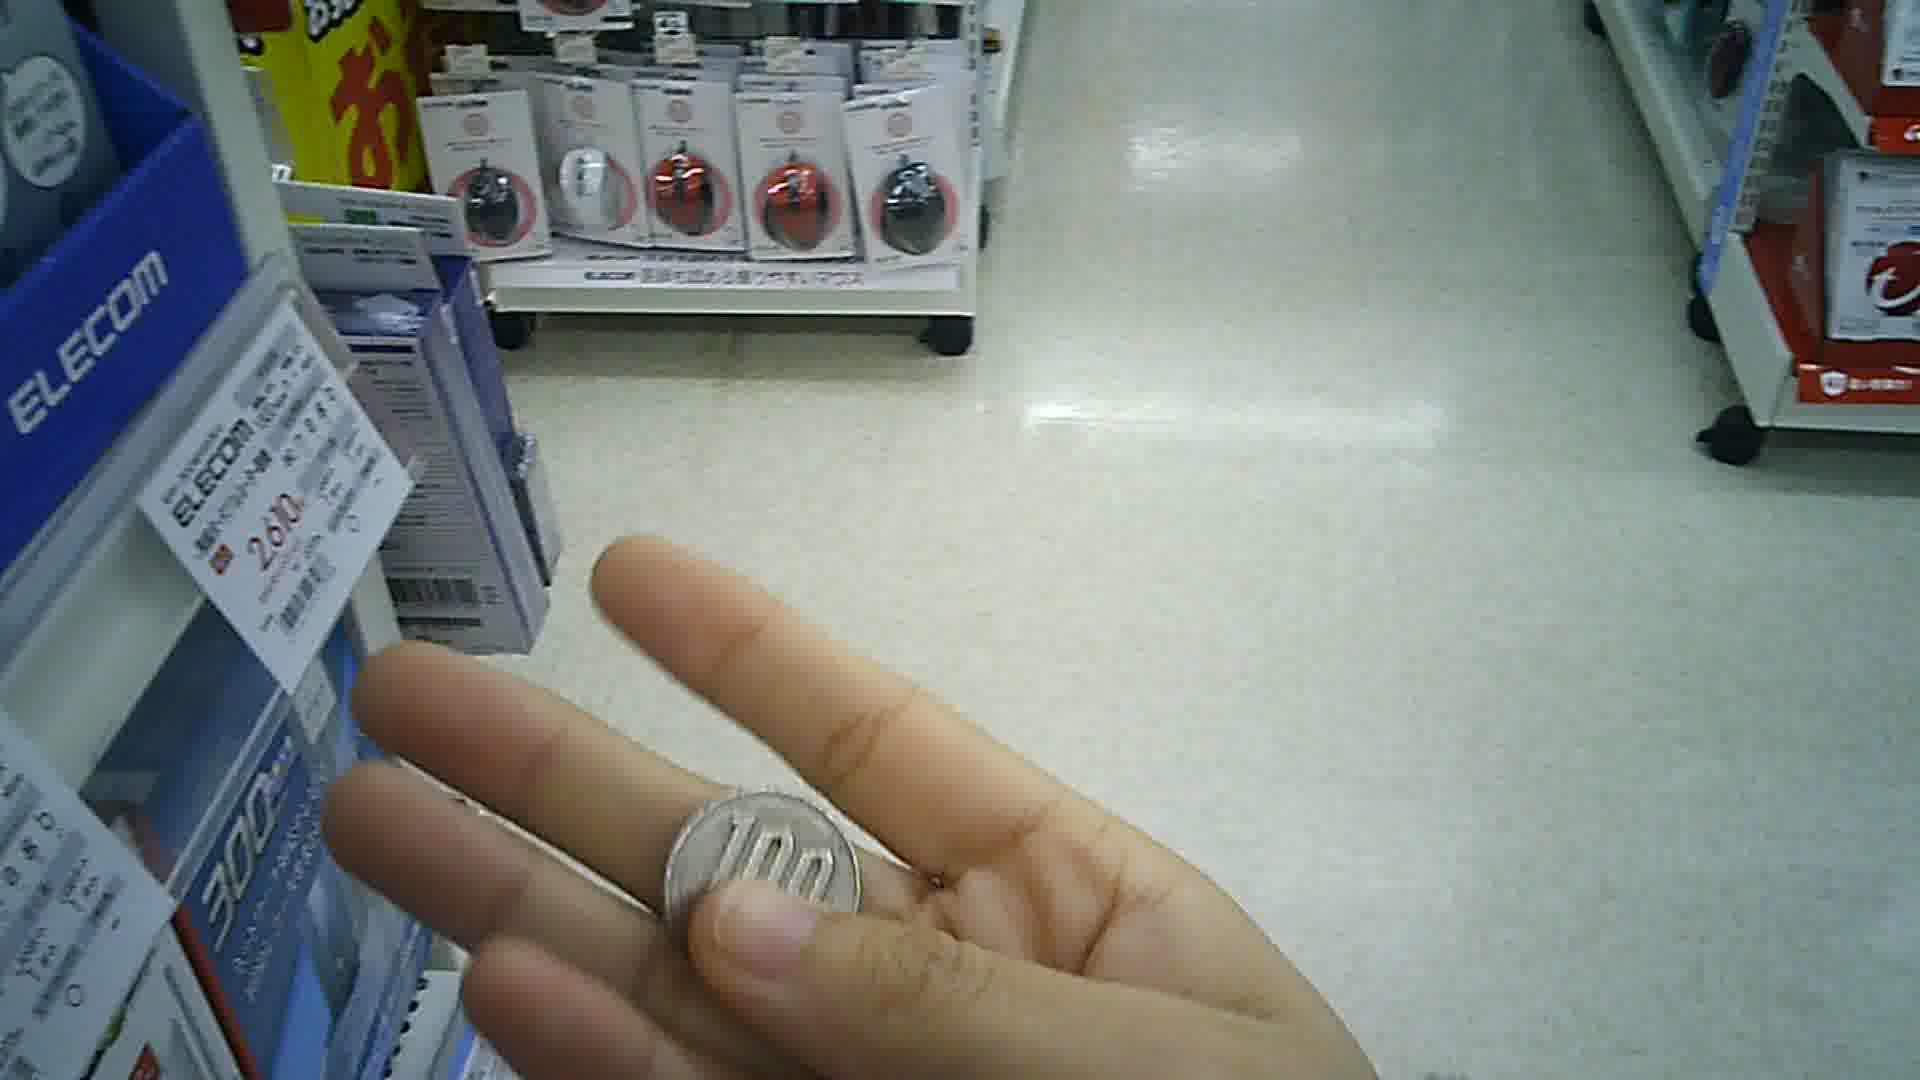100 Yen: (655, 778, 887, 945)
